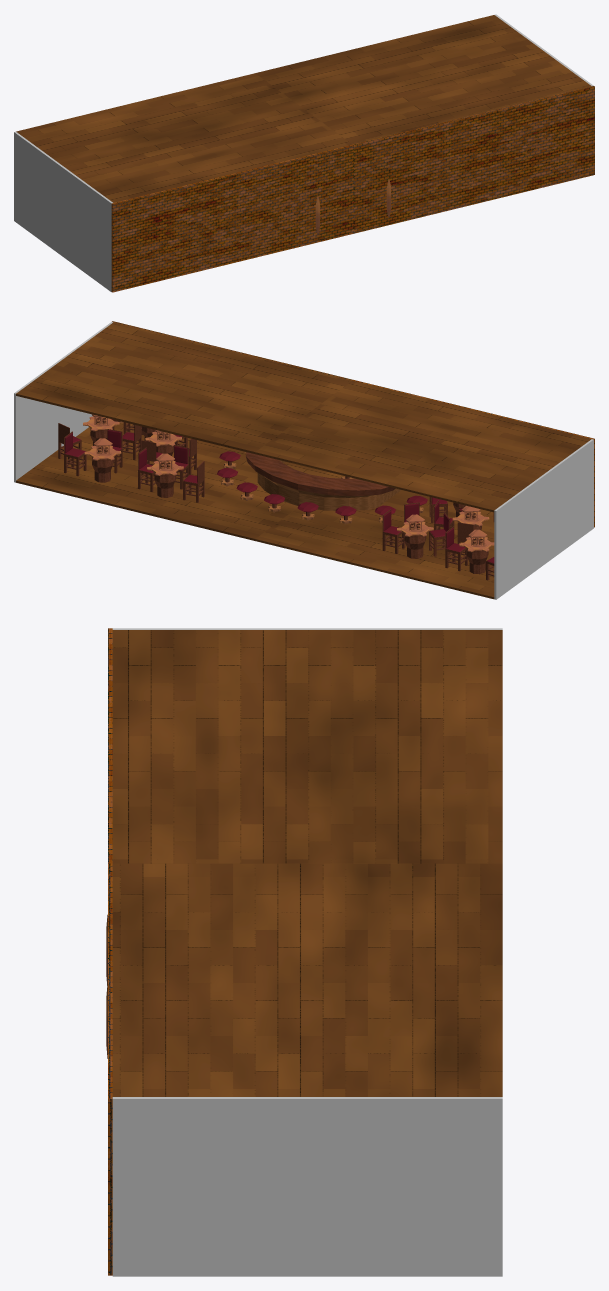
The model's file is SteamPubCentered.fbx.
The picture shows the model from 3 angles, top to bottom: view 1: azimuth 30°, elevation 25°; view 2: azimuth 150°, elevation 25°; view 3: azimuth 270°, elevation 25°; orthographic projection. The views are drawn at different scales.
Visible parts, largest first — view 1: Cube.001, BackWall, SideWall2; view 2: Cube.001, Ground, SideWall2, Counter, SideWall1, BackWall, Chair.016, Chair.010, Chair.009, Chair.013, Chair.012, Chair.015 (+7 smaller); view 3: Cube.001, SideWall1, BackWall.
Part boxes in pixels (box(x1,y1,x2,y2)): Cube.001: box(16, 15, 591, 202); BackWall: box(111, 86, 594, 292); SideWall2: box(14, 131, 112, 292); Cube.001: box(16, 322, 591, 512); Ground: box(16, 422, 494, 599); SideWall2: box(494, 439, 593, 599); Counter: box(246, 452, 400, 510); SideWall1: box(14, 322, 112, 482); BackWall: box(112, 321, 594, 527); Chair.016: box(64, 431, 86, 476); Chair.010: box(382, 509, 405, 553); Chair.009: box(445, 526, 467, 571); Chair.013: box(183, 461, 204, 502); Chair.012: box(429, 512, 450, 556); Chair.015: box(138, 447, 155, 492); Cube.001: box(112, 630, 502, 1096); SideWall1: box(112, 1097, 502, 1276); BackWall: box(108, 628, 112, 1275).
Size of the model in its own units: 1544 by 272 by 550.
